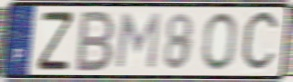8: (162, 11, 195, 71)
B: (73, 9, 117, 73)
C: (239, 7, 282, 76)
M: (113, 11, 163, 72)
O: (201, 11, 238, 73)
Z: (36, 9, 75, 72)
